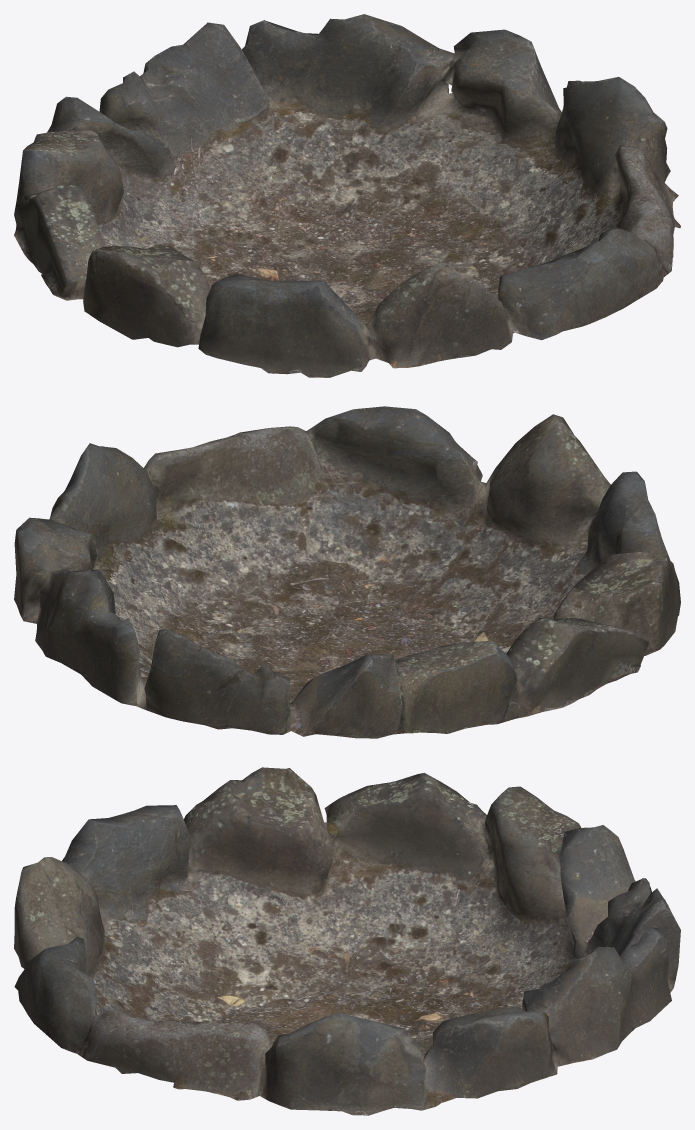
File: stone_fire_pit.glb
3 renders of one model, top to bottom at view 1: azimuth 30°, elevation 25°; view 2: azimuth 150°, elevation 25°; view 3: azimuth 270°, elevation 25°, orthographic.
Parts seen in each view (by area): view 1: stone_fire_pit; view 2: stone_fire_pit; view 3: stone_fire_pit.
Boxes of the visible parts, x1,y1,x2,y2 form: stone_fire_pit: (14,14,680,377); stone_fire_pit: (14,406,680,738); stone_fire_pit: (14,767,680,1115).
Bounding box in the file's own units: 1.45 × 0.3883 × 1.43.
1 material, 1 textured.
